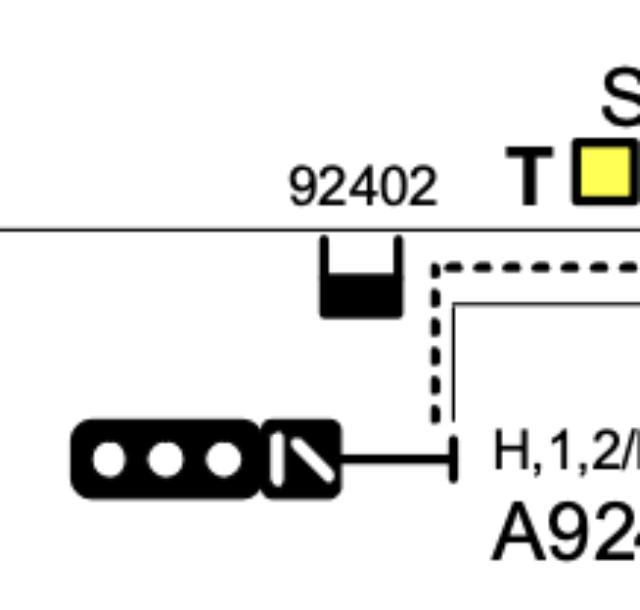radzaehler: (304, 214, 412, 329)
